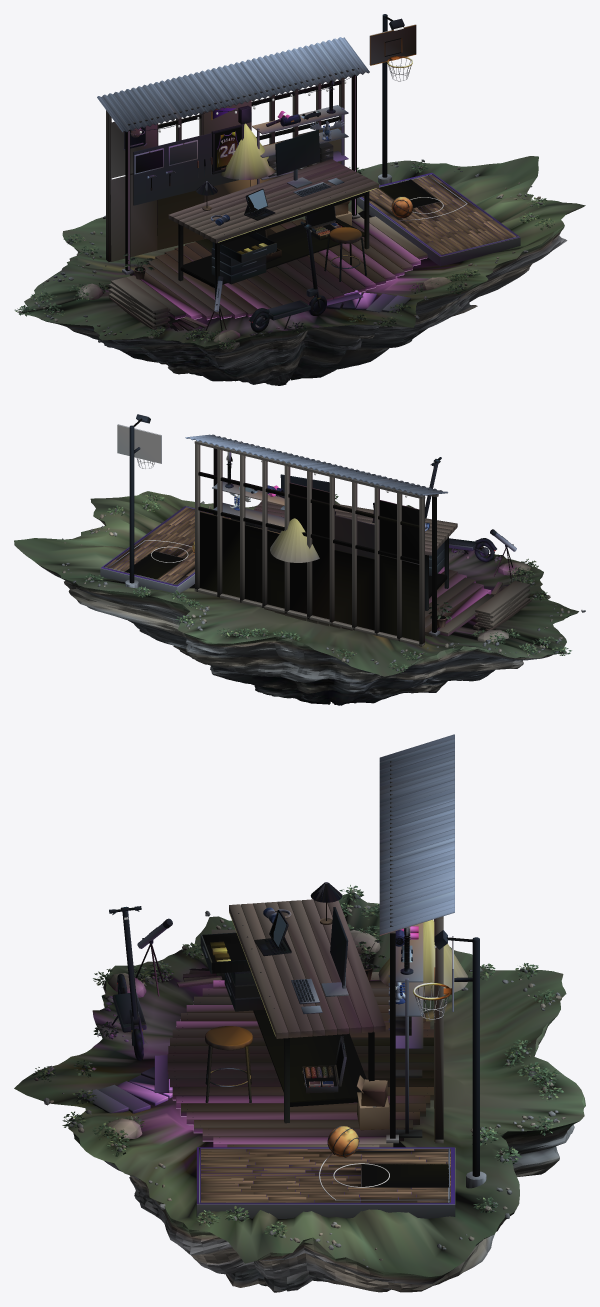
The model's file is flight-projects-756b10ab.glb.
The picture shows the model from 3 angles, top to bottom: view 1: azimuth 30°, elevation 25°; view 2: azimuth 150°, elevation 25°; view 3: azimuth 270°, elevation 25°; orthographic projection. The views are drawn at different scales.
Visible parts, largest first — view 1: Projects island · flight.001; view 2: Projects island · flight.001; view 3: Projects island · flight.001.
Boxes of the visible parts, x1,y1,x2,y2 form: Projects island · flight.001: [14, 14, 585, 385]; Projects island · flight.001: [14, 414, 585, 705]; Projects island · flight.001: [14, 734, 585, 1292].
Bounding box in the file's own units: 14.35 × 7.34 × 8.83.
